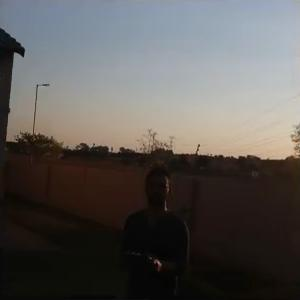follow: (119, 150, 197, 298)
